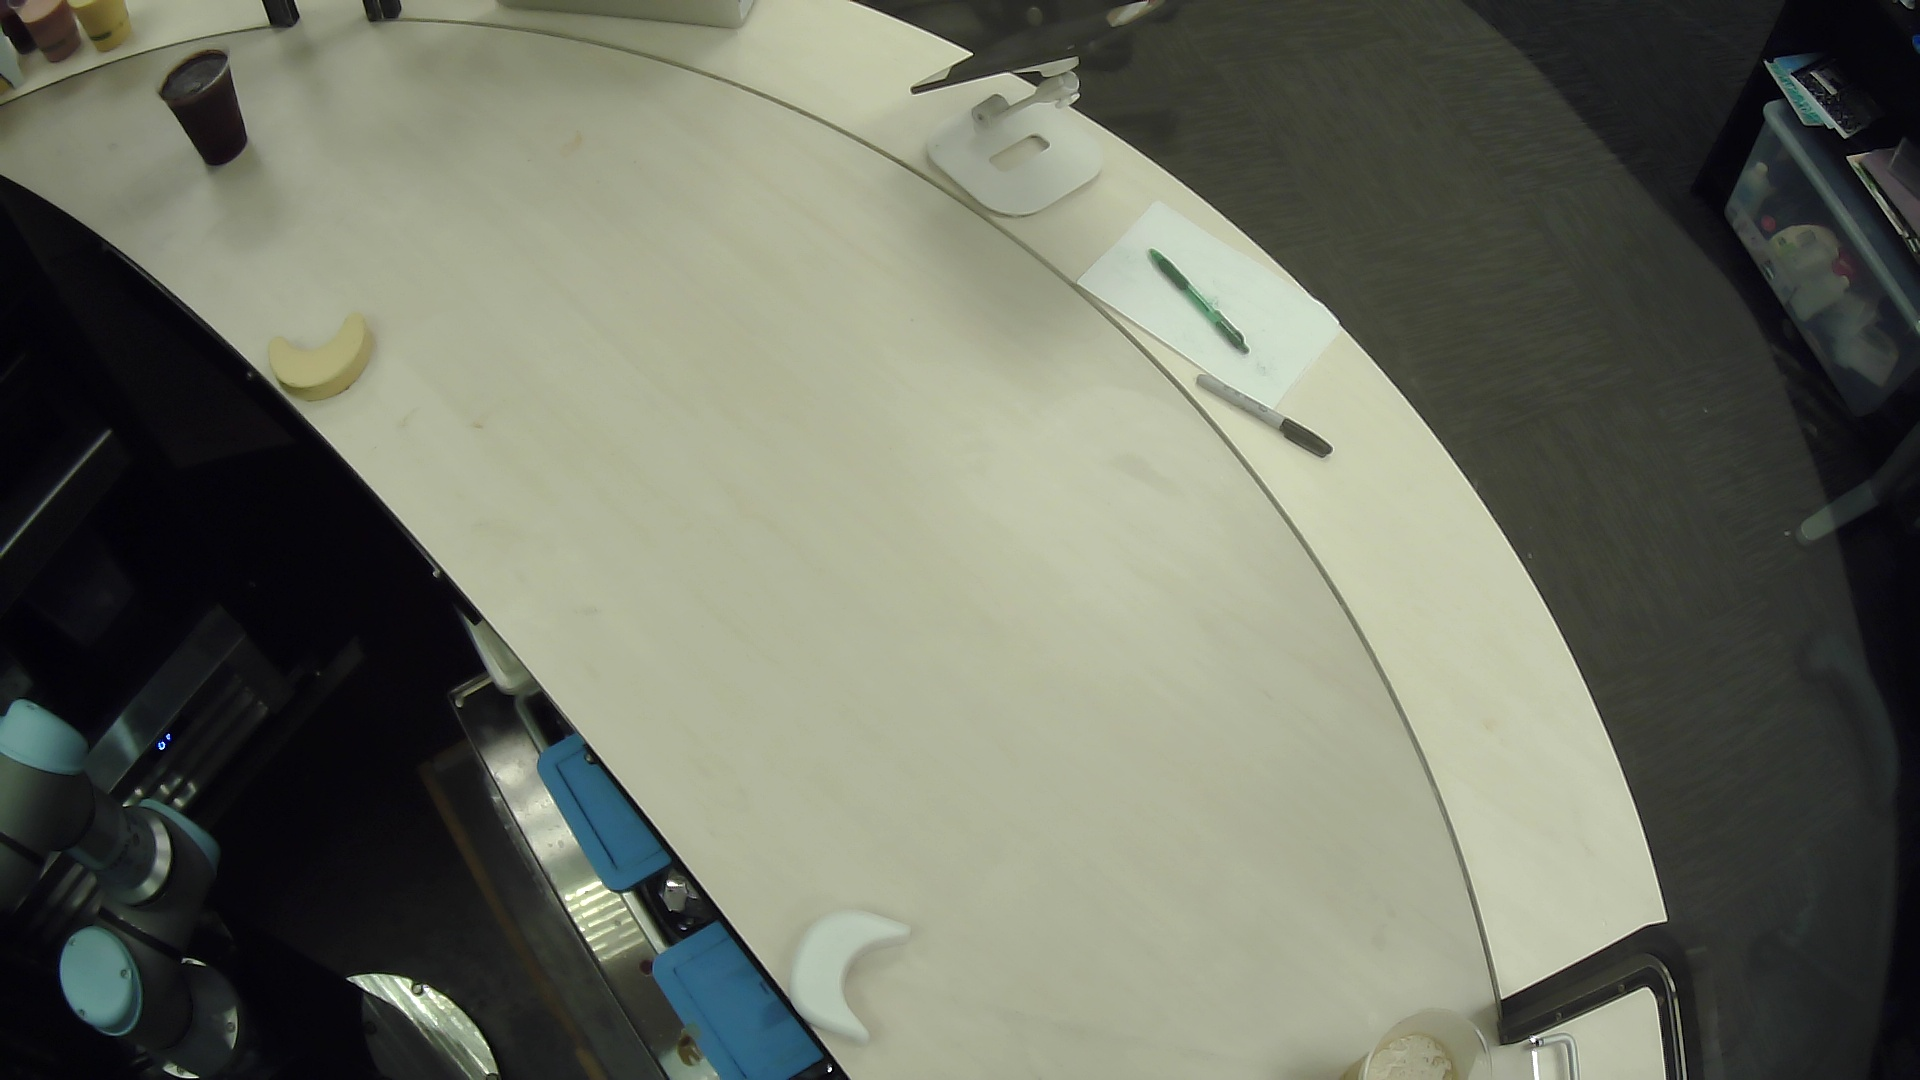Deliver: (771, 881, 955, 1056), (251, 295, 401, 415)
Full_cup: (1333, 976, 1524, 1080), (146, 44, 274, 185)
